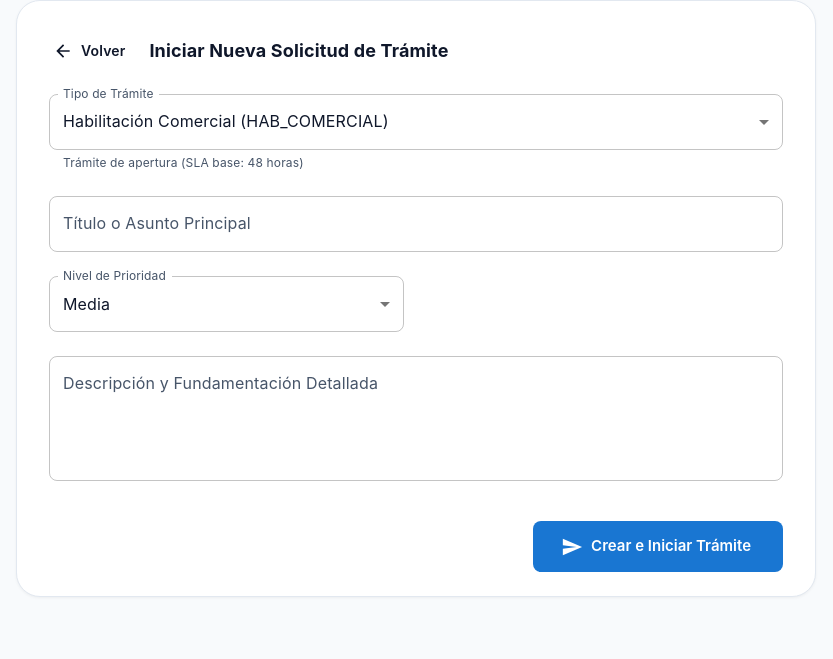
it: TramiteCreateForm Component (Formik + Yup + a11y) › debe validar campos obligatorios al intentar enviar formulario vacío
Step 1. Click the button "Crear e Iniciar Trámite" → {"x": 658, "y": 547}, box [533,521,783,572]
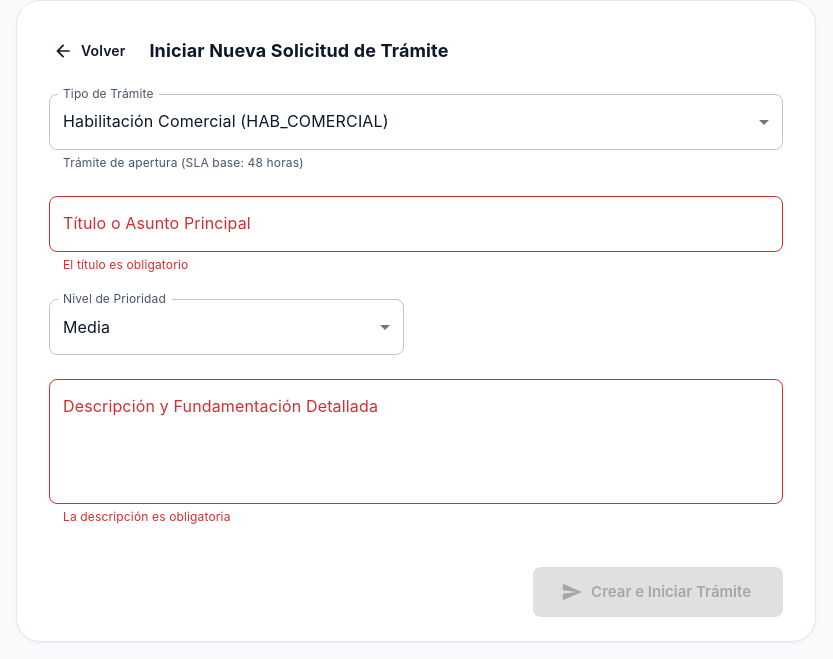
Now the text "El título es obligatorio" is shown, box [63,257,188,272]
Now the text "La descripción es obligatoria" is shown, box [63,509,230,524]
